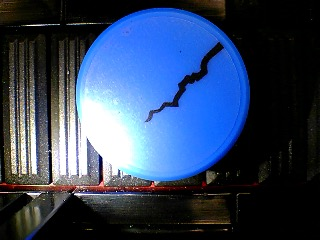CRACK: (75, 7, 251, 182)
